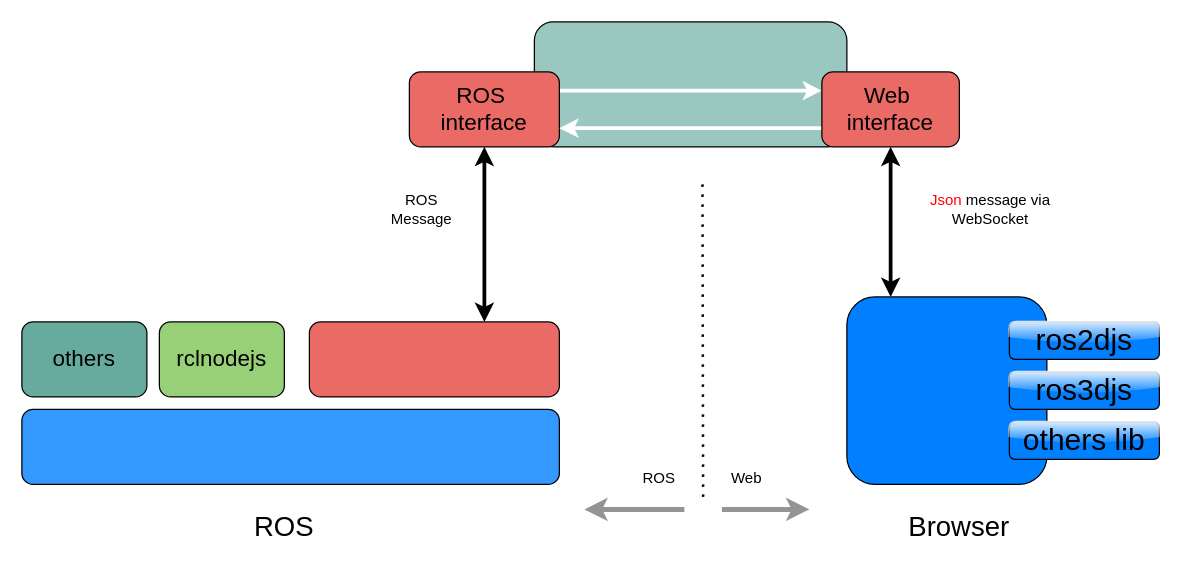
The diagram is 1181 pixels wide and 569 high, and some of its shapes have lost their labels. The centre of each missing label's shape, as x and y in pixels:
rcl interface to Ros2: (x=290, y=446)
rclcpp/rclpy: (x=433, y=359)
rosbridge_suite: (x=690, y=84)
roslibjs: (x=946, y=390)
